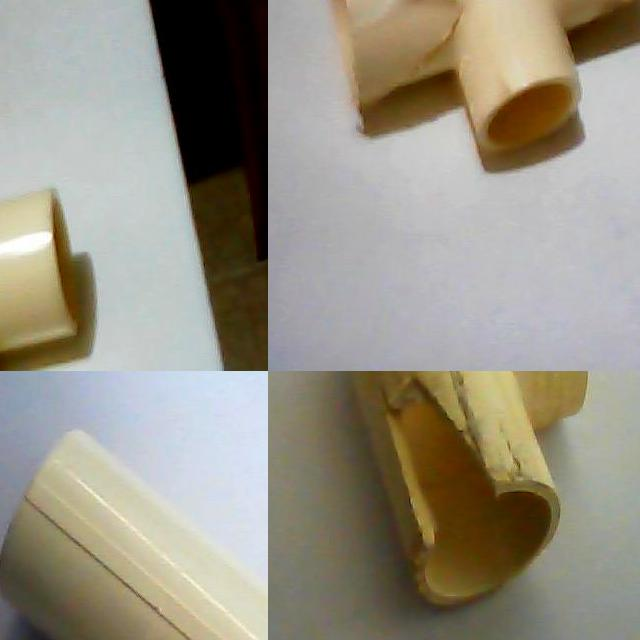Defective: (378, 384, 494, 549), (381, 403, 497, 545), (364, 0, 464, 77)
T Joint: (344, 371, 589, 612), (345, 371, 589, 612), (0, 430, 268, 640), (0, 189, 80, 355)
